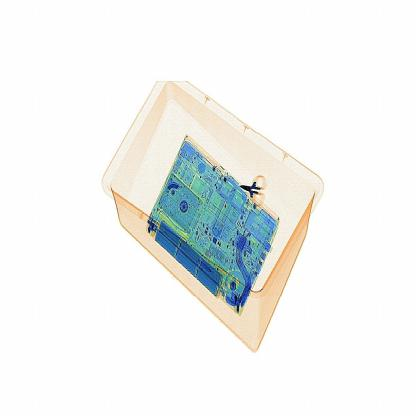gun: (236, 168, 271, 214)
